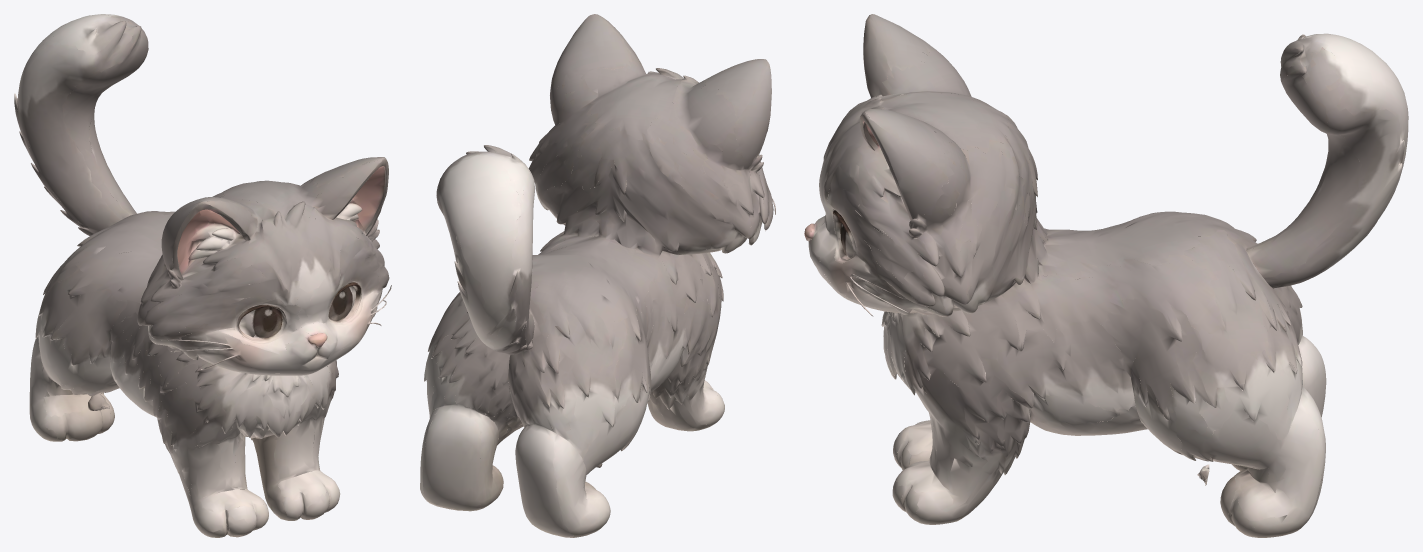
The model's file is cat.glb.
The picture shows the model from 3 angles, left to right: view 1: azimuth 30°, elevation 25°; view 2: azimuth 150°, elevation 25°; view 3: azimuth 270°, elevation 25°; orthographic projection. The views are drawn at different scales.
Parts seen in each view (by area): view 1: node_0; view 2: node_0; view 3: node_0.
Boxes of the visible parts, box(x1,y1,x2,y2) form: node_0: box(14, 14, 391, 537); node_0: box(420, 14, 775, 537); node_0: box(804, 14, 1408, 537).
Size of the model in its own units: 0.5508 by 0.8484 by 1.03.
Materials: 1 (1 with a texture image).
